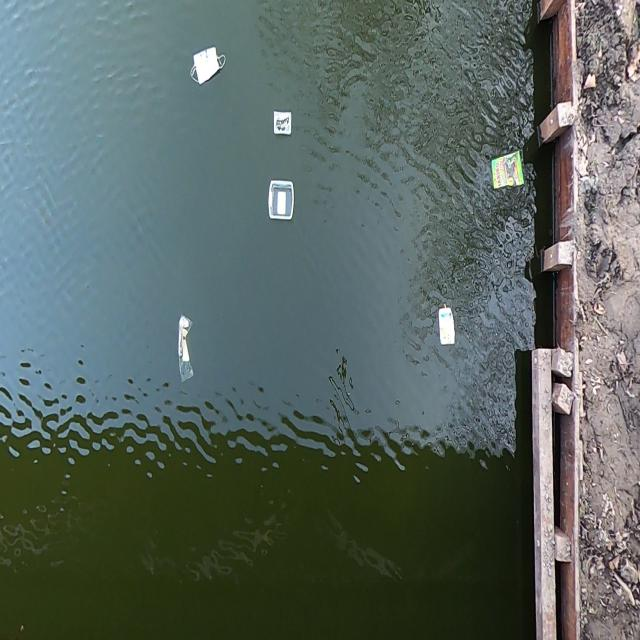Autre plastique: (488, 146, 530, 199), (433, 297, 461, 351), (267, 174, 297, 223), (272, 111, 292, 137)
Non plastique: (187, 44, 230, 86)
Sac plastique: (168, 304, 200, 390)
